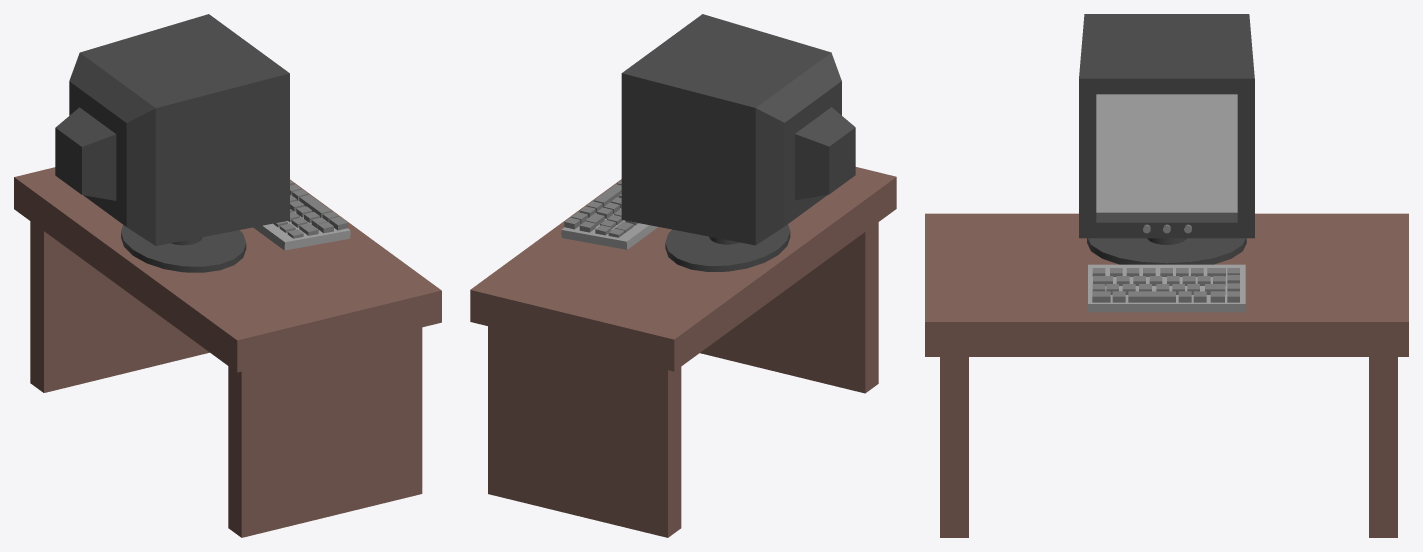
File: computerdesk.fbx
3 views of the same model, side by side, from view 1: azimuth 30°, elevation 25°; view 2: azimuth 150°, elevation 25°; view 3: azimuth 270°, elevation 25° (orthographic). The views are drawn at different scales.
Visible parts, largest first — view 1: desk, monitor, keyboard; view 2: desk, monitor, keyboard; view 3: desk, monitor, keyboard.
Part boxes in pixels (<box>): desk: <box>14,167,441,537</box>; monitor: <box>55,14,289,272</box>; keyboard: <box>253,180,350,250</box>; desk: <box>470,167,896,537</box>; monitor: <box>621,14,855,271</box>; keyboard: <box>561,180,657,249</box>; desk: <box>925,213,1408,537</box>; monitor: <box>1079,14,1254,264</box>; keyboard: <box>1088,264,1245,312</box>.
Bounding box in the file's own units: 99.32 × 142 × 147.
